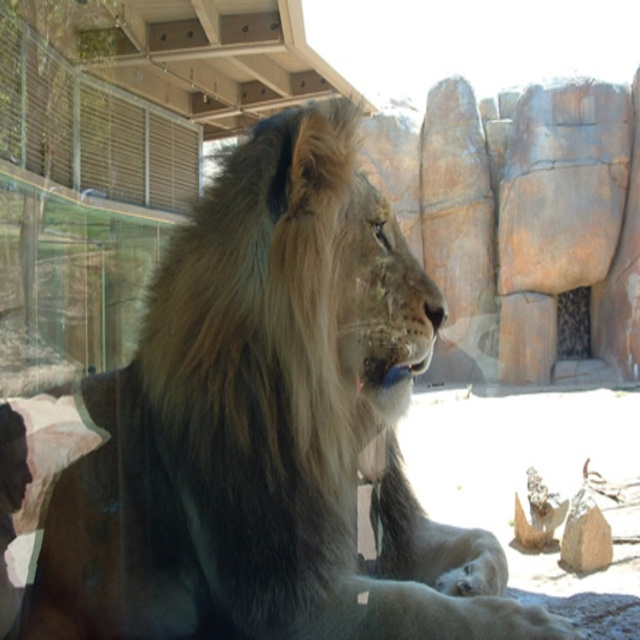Lion: (7, 84, 582, 638)
